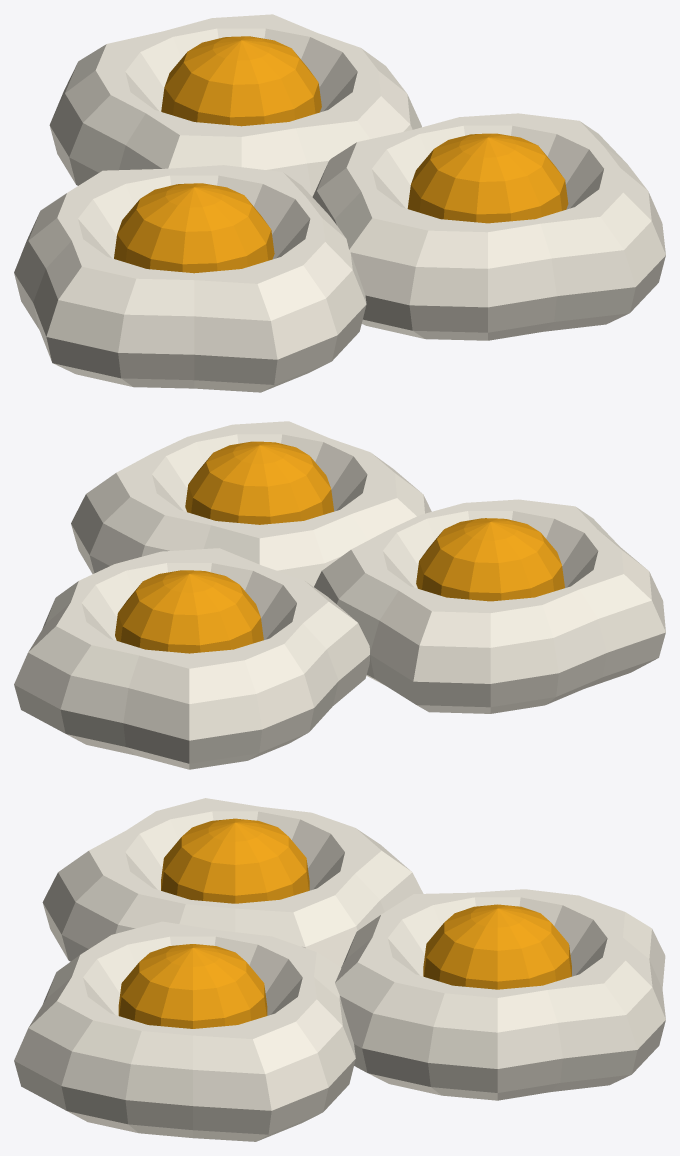
Rendered from SM_Cook_Topping_Egg_HD_01.fbx.
3 renders of one model, top to bottom at view 1: azimuth 30°, elevation 25°; view 2: azimuth 150°, elevation 25°; view 3: azimuth 270°, elevation 25°, orthographic. The views are drawn at different scales.
Parts seen in each view (by area): view 1: SM_Cook_Topping_Egg_HD_01; view 2: SM_Cook_Topping_Egg_HD_01; view 3: SM_Cook_Topping_Egg_HD_01.
Boxes of the visible parts, x1,y1,x2,y2 form: SM_Cook_Topping_Egg_HD_01: (14, 14, 665, 392); SM_Cook_Topping_Egg_HD_01: (14, 421, 665, 769); SM_Cook_Topping_Egg_HD_01: (14, 798, 665, 1141).
Bounding box in the file's own units: 0.1553 × 0.035 × 0.154.
Materials: 1 (1 with a texture image).
